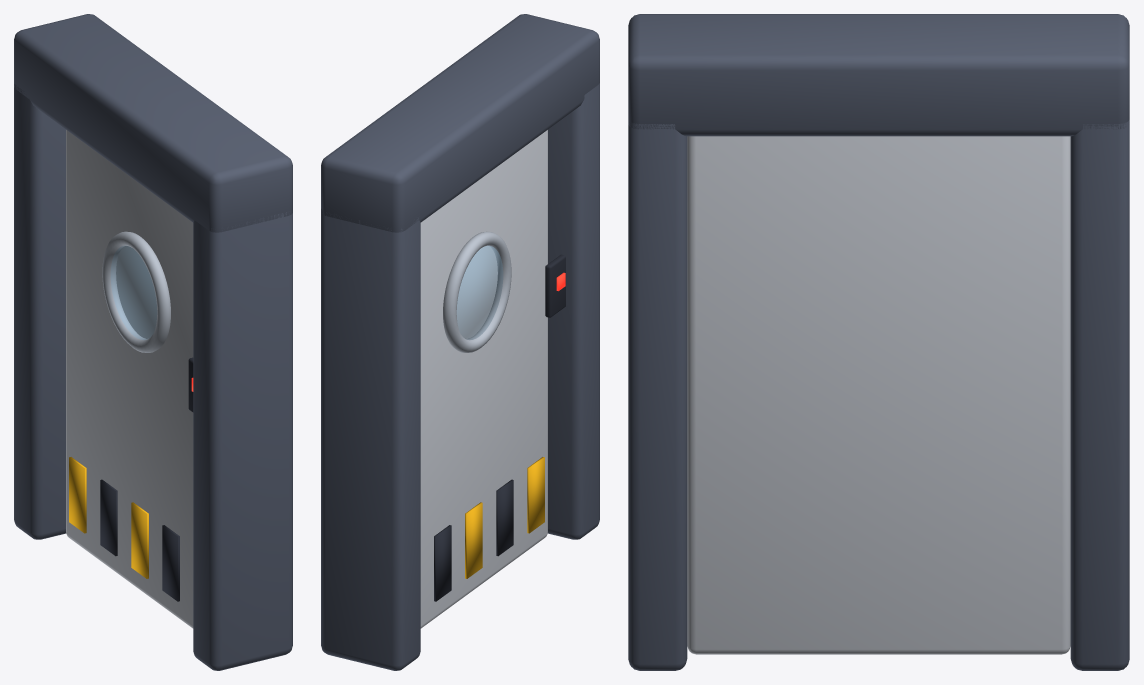
The model's file is Station_Airlock.glb.
3 views of the same model, side by side, from view 1: azimuth 30°, elevation 25°; view 2: azimuth 150°, elevation 25°; view 3: azimuth 270°, elevation 25° (orthographic). The views are drawn at different scales.
Visible parts, largest first — view 1: Station_Airlock.Jamb, Station_Airlock.Door, Station_Airlock.Header, Station_Airlock.Jamb.001, Station_Airlock.PortRim, Station_Airlock.Porthole, Station_Airlock.Hazard3, Station_Airlock.Hazard1, Station_Airlock.Hazard2, Station_Airlock.Hazard4; view 2: Station_Airlock.Door, Station_Airlock.Jamb.001, Station_Airlock.Header, Station_Airlock.Jamb, Station_Airlock.PortRim, Station_Airlock.Porthole, Station_Airlock.Hazard1, Station_Airlock.Hazard2, Station_Airlock.Hazard3, Station_Airlock.Hazard0, Station_Airlock.Panel; view 3: Station_Airlock.Door, Station_Airlock.Header, Station_Airlock.Jamb, Station_Airlock.Jamb.001.
Boxes of the visible parts, <box> form: Station_Airlock.Jamb: <box>193,212,292,670</box>; Station_Airlock.Door: <box>66,130,193,628</box>; Station_Airlock.Header: <box>14,14,292,232</box>; Station_Airlock.Jamb.001: <box>14,84,66,539</box>; Station_Airlock.PortRim: <box>102,231,170,352</box>; Station_Airlock.Porthole: <box>111,246,156,339</box>; Station_Airlock.Hazard3: <box>100,479,117,556</box>; Station_Airlock.Hazard1: <box>162,525,179,601</box>; Station_Airlock.Hazard2: <box>131,502,148,578</box>; Station_Airlock.Hazard4: <box>69,457,86,533</box>; Station_Airlock.Door: <box>420,130,547,628</box>; Station_Airlock.Jamb.001: <box>321,208,420,670</box>; Station_Airlock.Header: <box>321,14,599,232</box>; Station_Airlock.Jamb: <box>547,83,599,539</box>; Station_Airlock.PortRim: <box>443,231,511,352</box>; Station_Airlock.Porthole: <box>457,246,502,339</box>; Station_Airlock.Hazard1: <box>496,479,513,556</box>; Station_Airlock.Hazard2: <box>465,502,482,578</box>; Station_Airlock.Hazard3: <box>434,525,451,601</box>; Station_Airlock.Hazard0: <box>527,457,544,533</box>; Station_Airlock.Panel: <box>545,254,565,317</box>; Station_Airlock.Door: <box>687,136,1070,654</box>; Station_Airlock.Header: <box>628,14,1129,136</box>; Station_Airlock.Jamb: <box>628,122,687,670</box>; Station_Airlock.Jamb.001: <box>1070,120,1129,670</box>.
Bounding box in the file's own units: 0.4 × 2.3 × 1.7.
